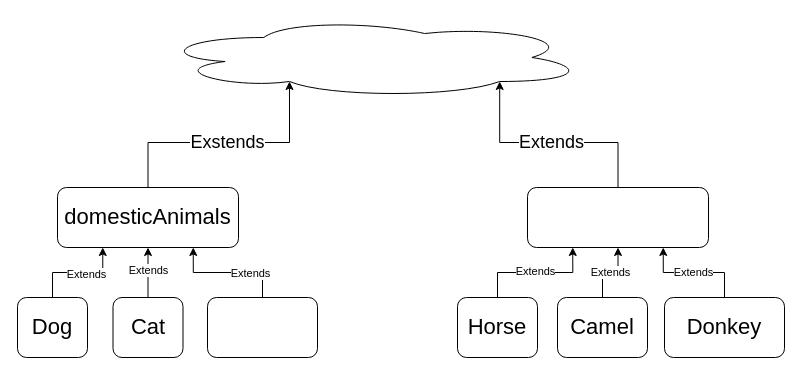
The diagram is 802 pixels wide and 375 high, and some of its shapes have lost their labels. Each missing label, with the box of its shape:
abstract class Animals: (156, 16, 586, 98)
baggegeAnimals: (526, 186, 708, 248)
Hamster: (206, 296, 318, 358)
